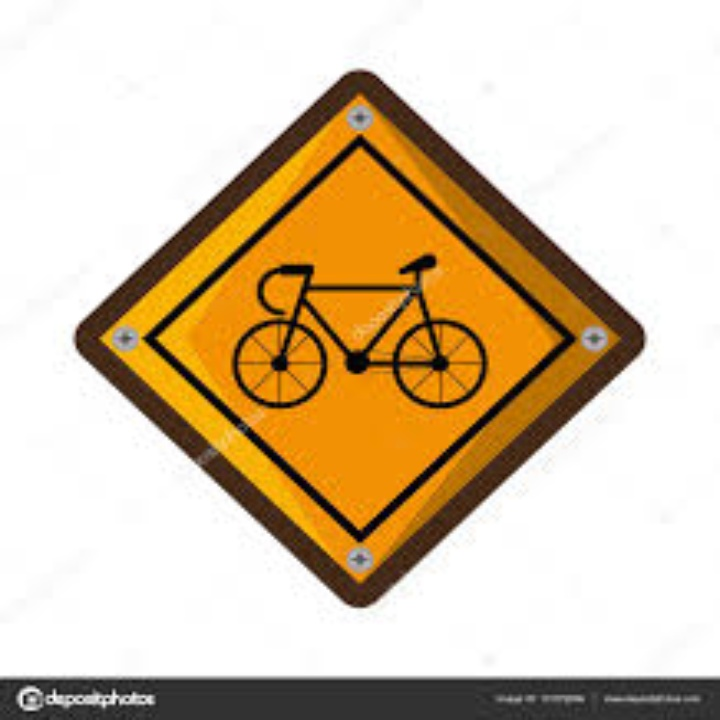bicycle: (225, 248, 495, 412)
